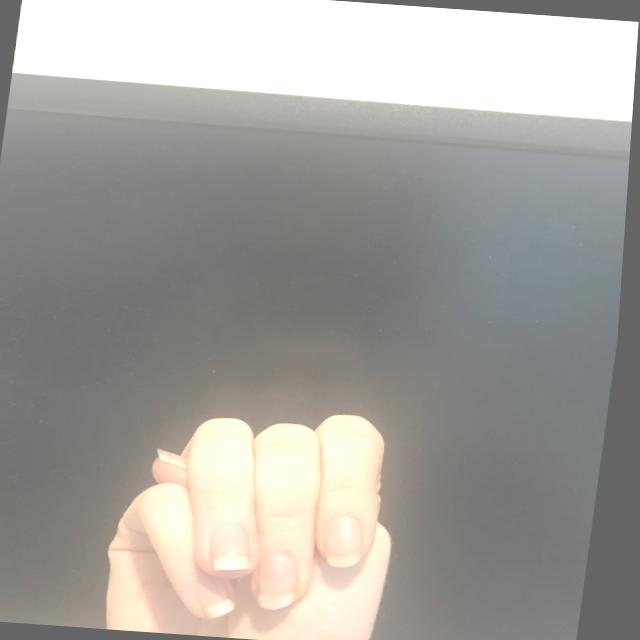M: (93, 392, 431, 639)
